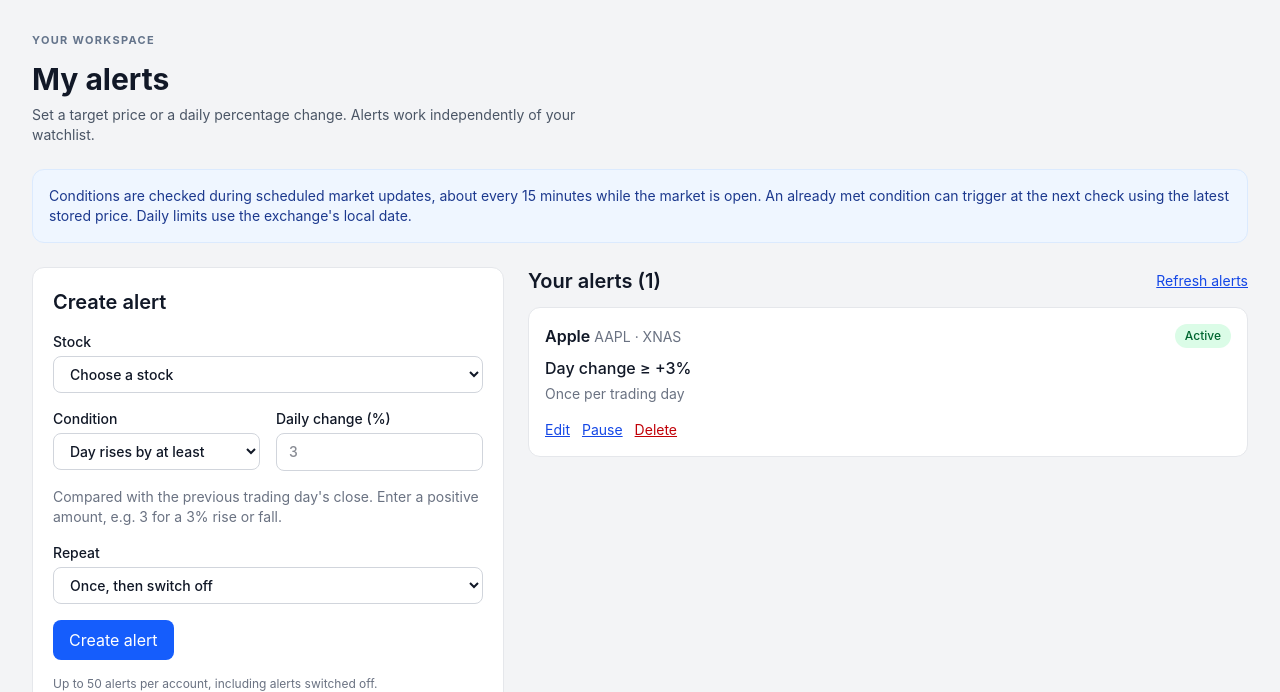
Test: Alerts › requires delete confirmation and retains an alert when deletion fails
Click the button with aria-label "Delete alert for AAPL": (656,430) [635,420,677,440]
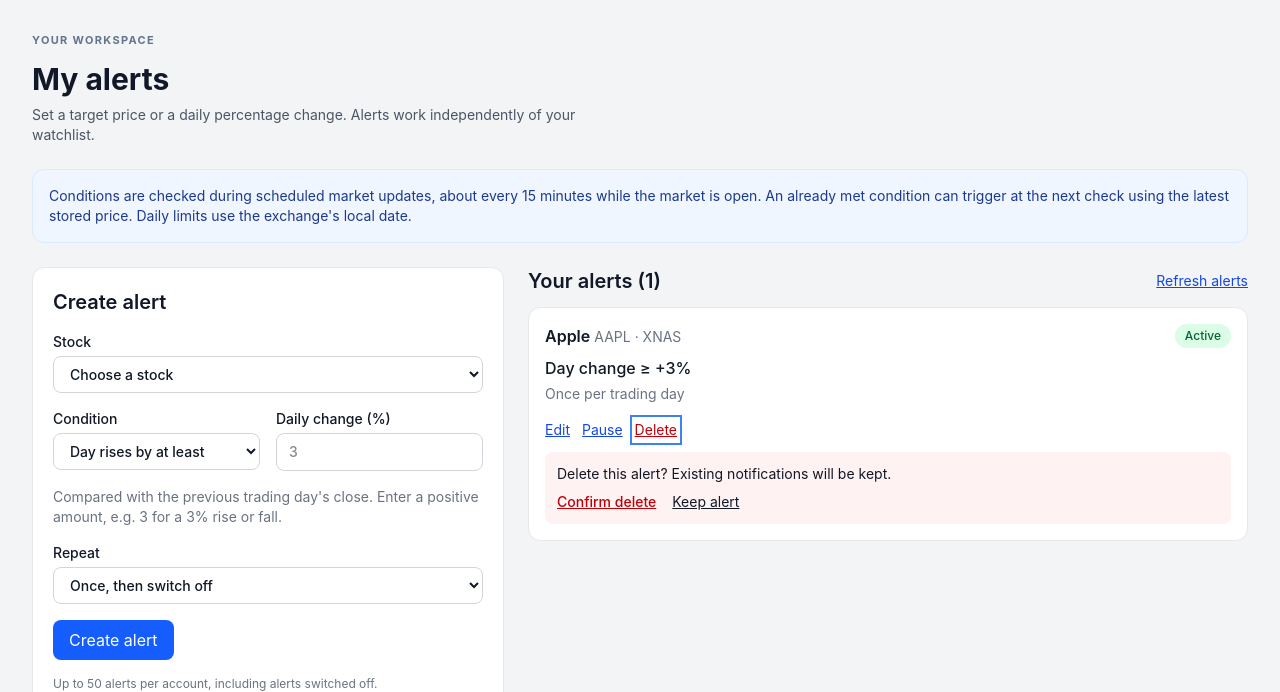
Click the button "Confirm delete": (607,502) [557,492,656,512]
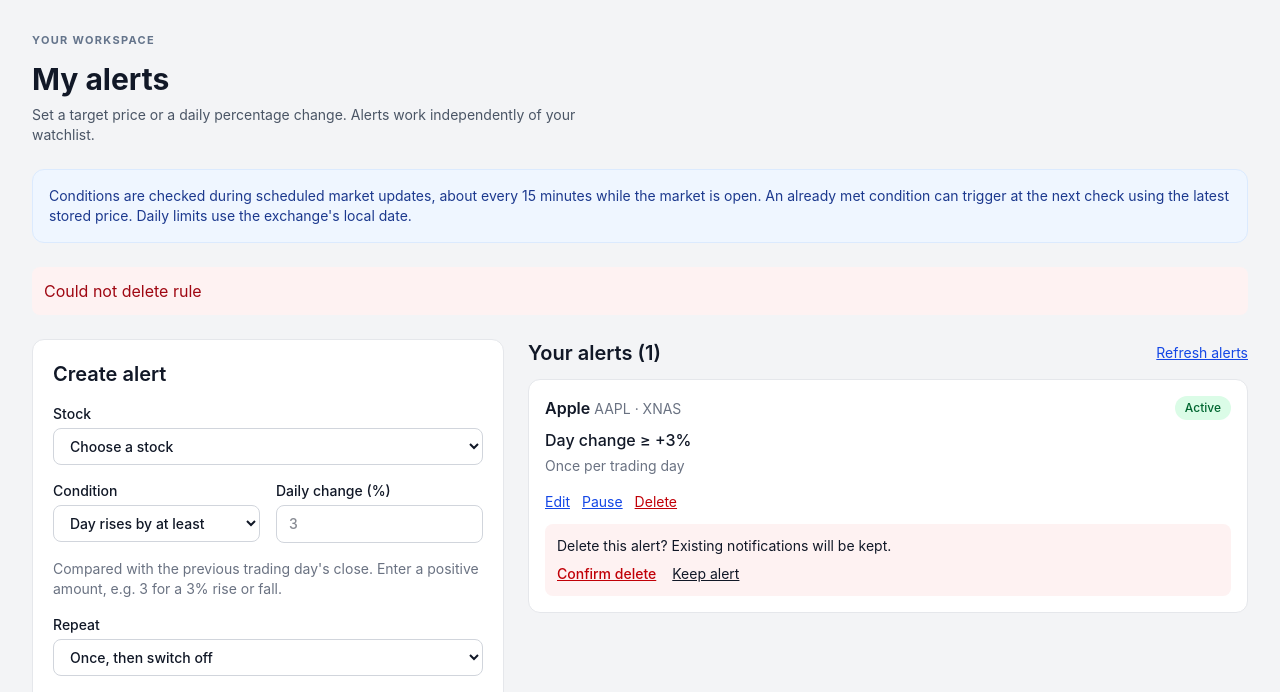
Expected: the text "Day change ≥ +3%" is shown, [545,428,691,452]
Now the message reads "Could not delete rule", box [44,280,202,300]
